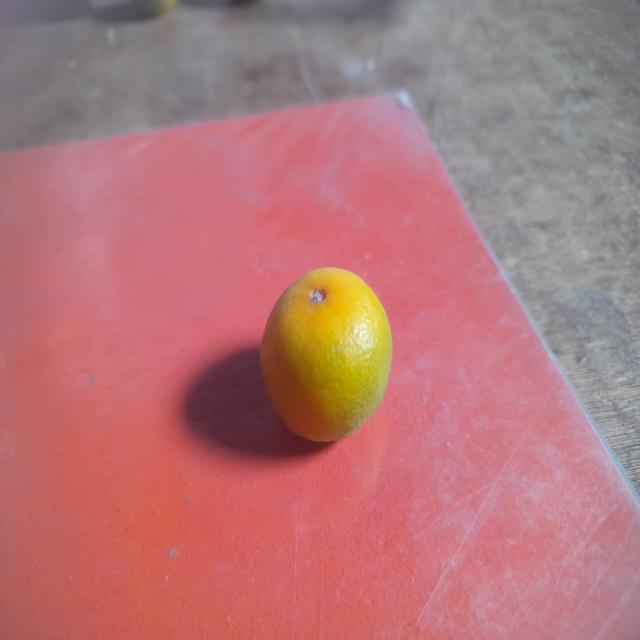greening: (258, 268, 392, 452)
